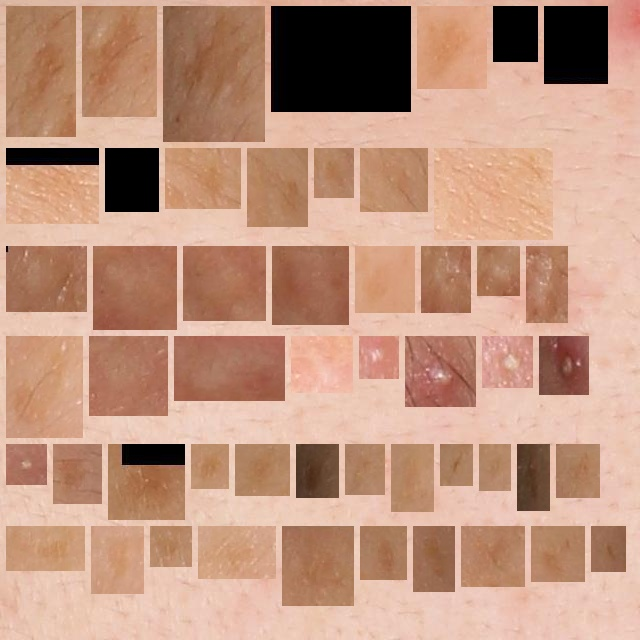hypertrophic_scar: (182, 344, 277, 393), (101, 254, 169, 322), (97, 344, 160, 408), (191, 254, 258, 313), (280, 254, 341, 317), (14, 254, 79, 304), (299, 344, 345, 385), (429, 254, 463, 305), (534, 254, 560, 315), (485, 254, 512, 288)
melasma: (279, 14, 403, 104), (171, 14, 257, 134), (442, 156, 545, 232), (14, 14, 68, 129), (90, 14, 149, 109), (14, 344, 75, 430), (14, 156, 91, 216), (116, 452, 177, 512), (425, 14, 479, 81), (290, 534, 346, 598), (552, 14, 600, 76), (255, 156, 300, 219), (173, 156, 233, 201), (368, 156, 420, 204), (206, 534, 268, 571), (363, 254, 407, 305), (469, 534, 517, 579), (99, 534, 136, 586), (14, 534, 77, 563), (113, 156, 151, 204), (539, 534, 577, 574), (61, 452, 94, 496), (243, 452, 282, 488), (399, 452, 426, 504), (421, 534, 447, 584), (368, 534, 399, 572), (501, 14, 530, 54), (564, 452, 592, 490), (304, 452, 331, 490), (525, 452, 542, 503), (353, 452, 377, 487), (322, 156, 346, 190), (158, 534, 184, 559), (199, 452, 221, 481), (599, 534, 618, 564), (487, 452, 503, 483), (448, 452, 465, 478)
pustule: (413, 344, 468, 399), (547, 344, 581, 387), (490, 344, 525, 380), (367, 344, 391, 371), (14, 452, 39, 477)
